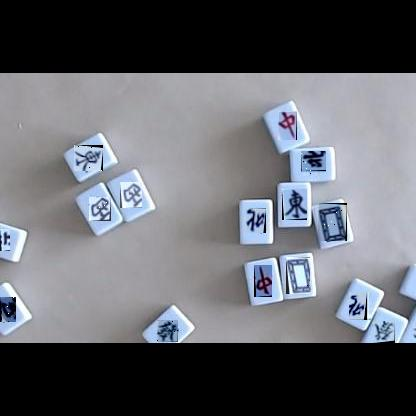1z: (282, 189, 307, 220), (74, 145, 103, 171)
2z: (0, 297, 16, 322)
3z: (120, 182, 142, 208), (89, 197, 111, 221), (0, 229, 10, 251)
4z: (350, 292, 372, 320), (301, 152, 326, 176), (246, 208, 266, 233)
5z: (318, 203, 347, 241), (286, 257, 310, 294)
6z: (373, 321, 395, 343), (157, 320, 178, 342)
7z: (254, 265, 272, 297), (278, 111, 297, 140)
